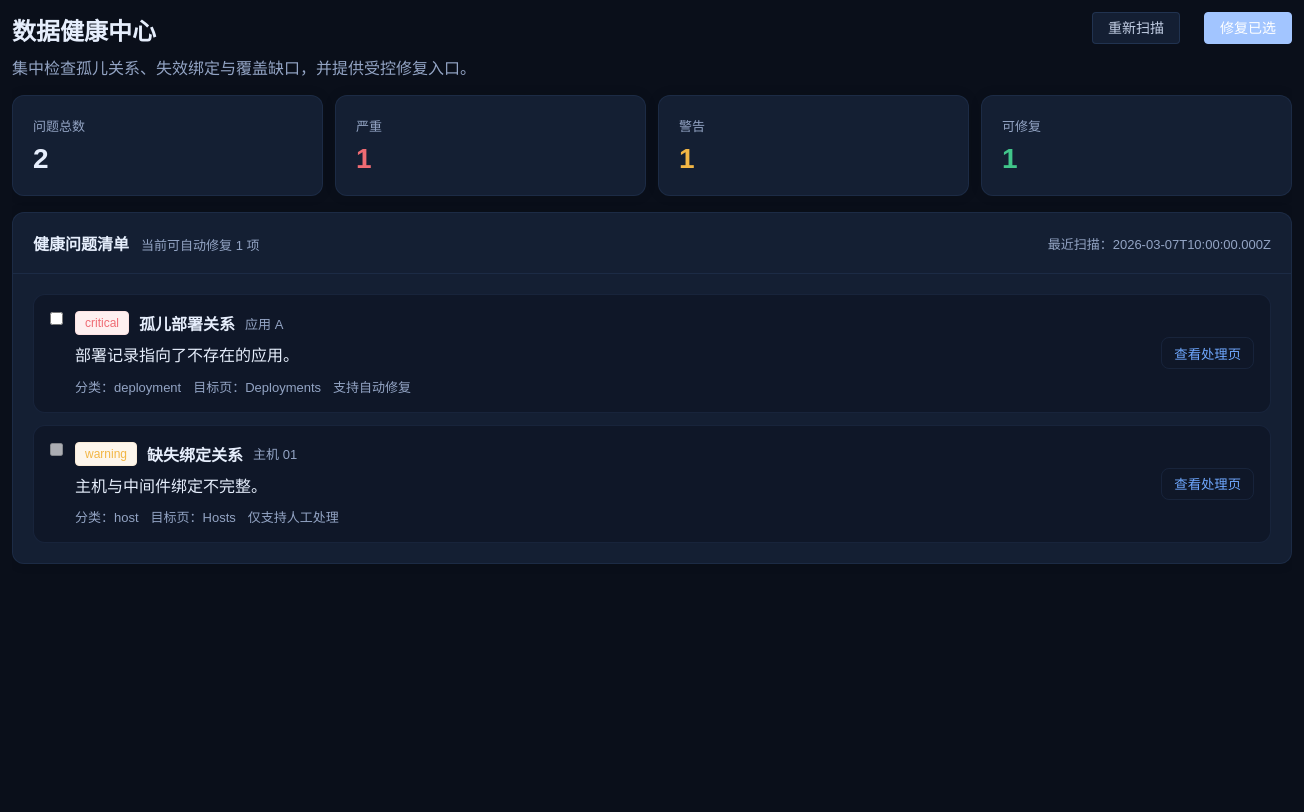
it: IntegrityCenterView › repairs selected findings
Step 1. Click the checkbox with test id "select-orphan-deployment:dep-1" → (56, 318), box [50,312,63,325]
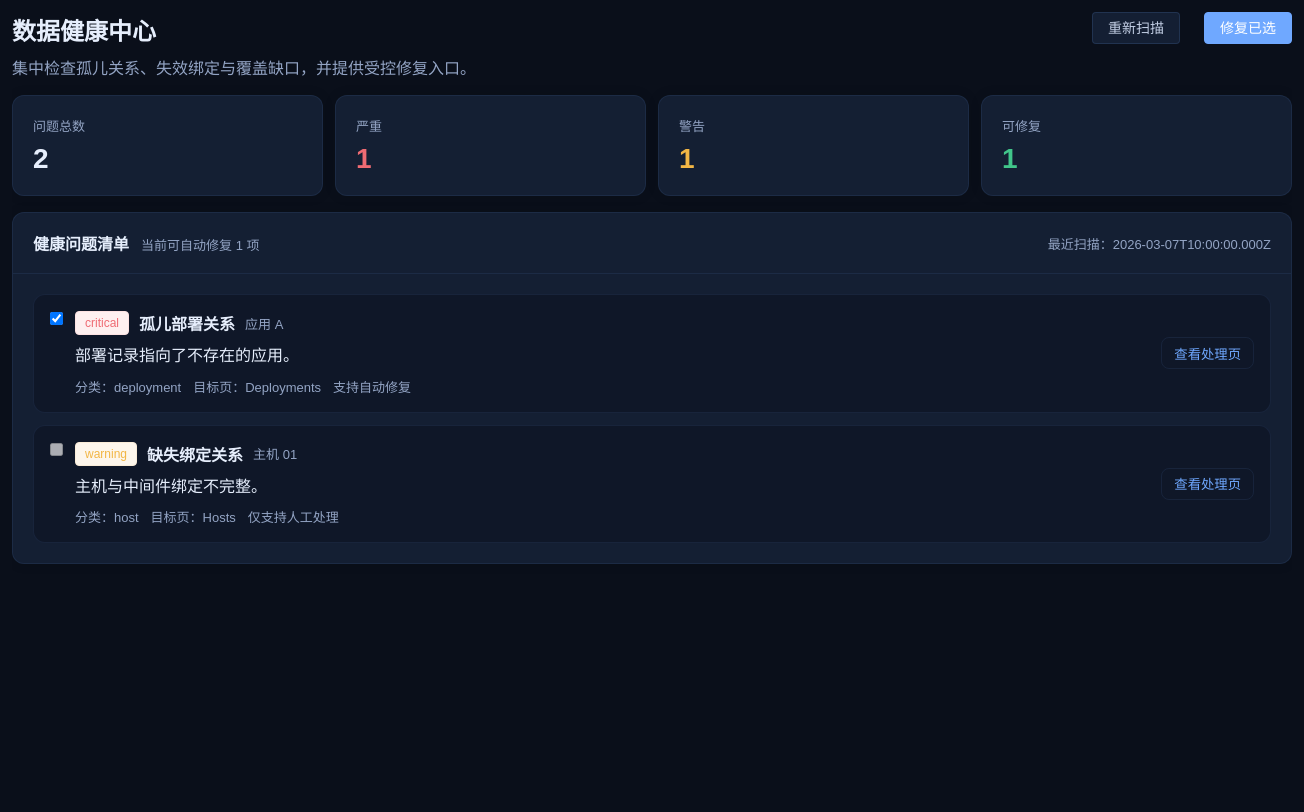
Step 2. Click the button with test id "repair-selected" → (1248, 28), box [1204,12,1292,44]
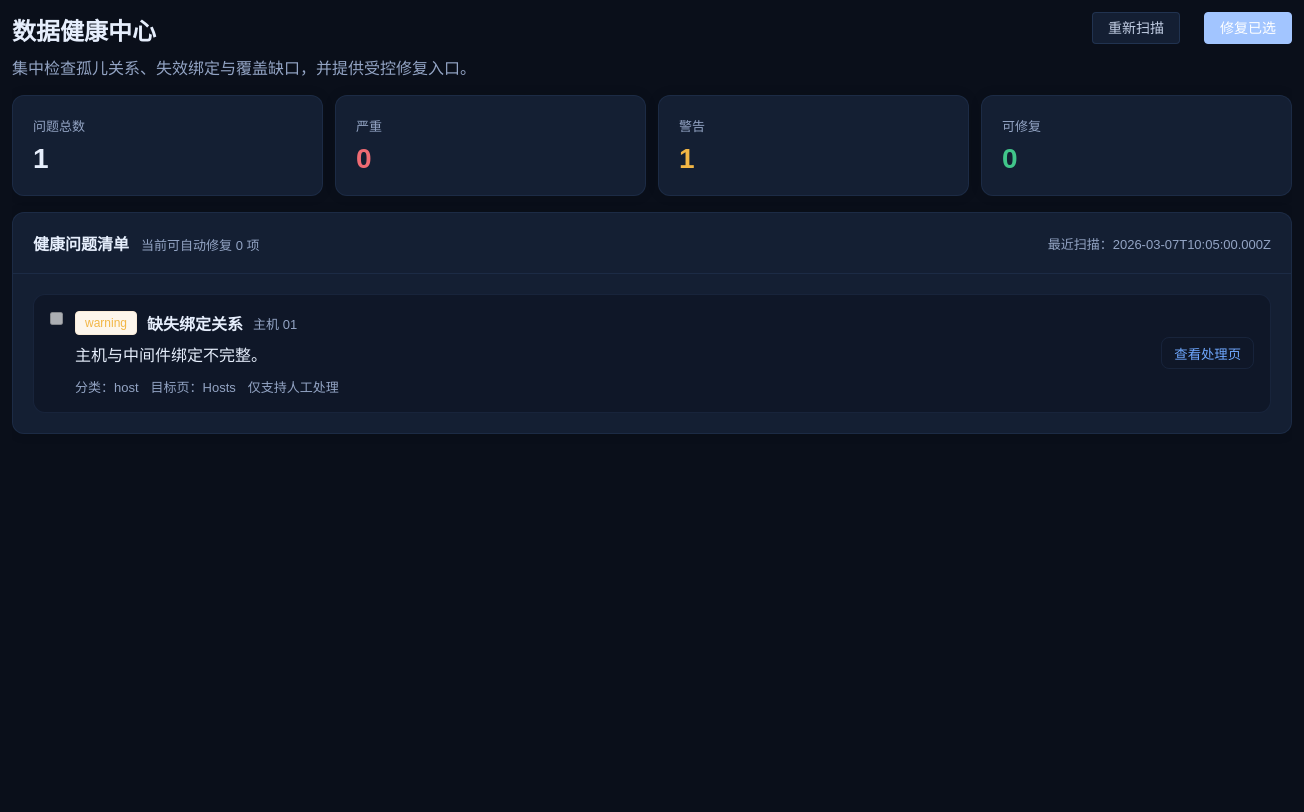
Expected: the text "孤儿部署关系" is gone
